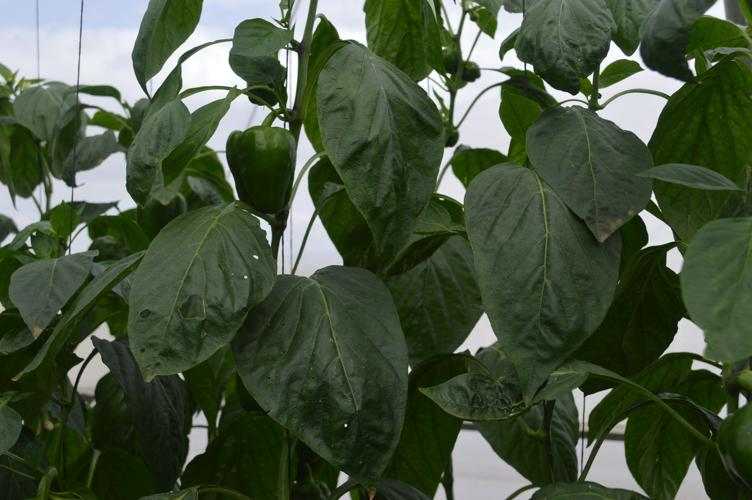BellPepper: (224, 126, 297, 218)
